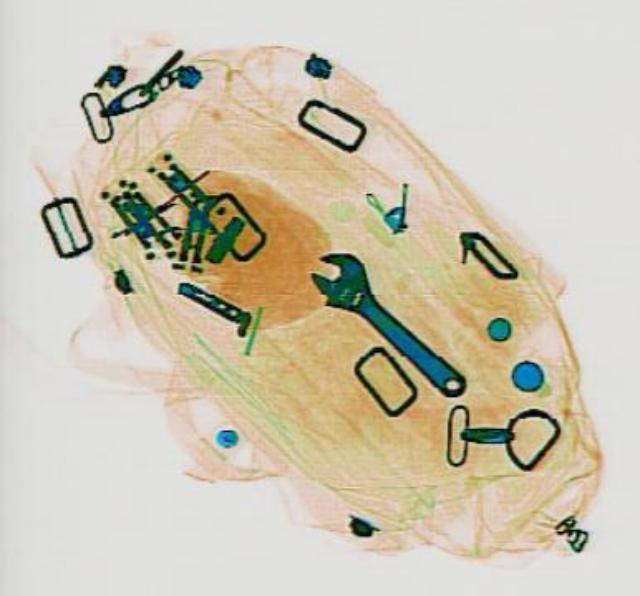Wrench: (292, 236, 486, 406)
